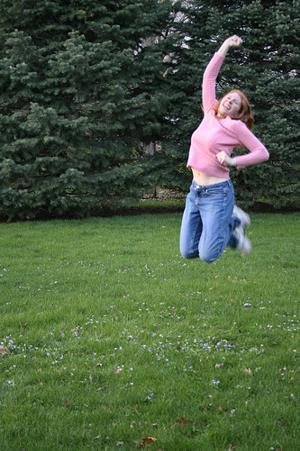person: (182, 30, 268, 265)
